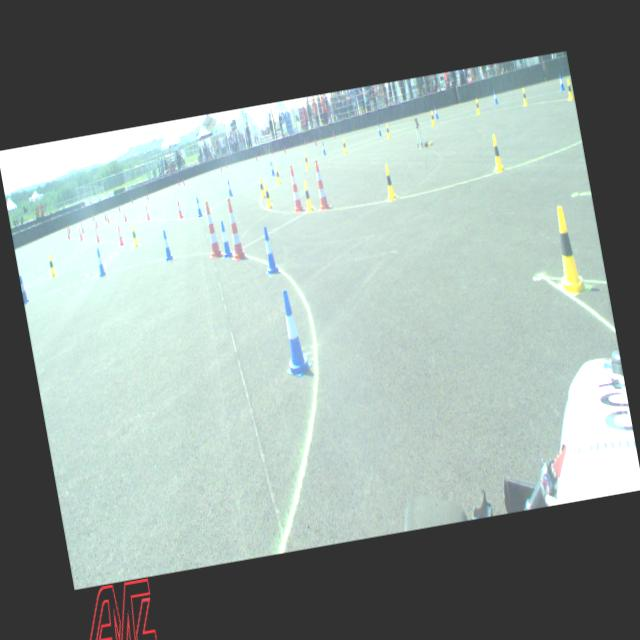blue_cone: (272, 286, 314, 380), (260, 224, 278, 274), (218, 219, 233, 258), (160, 228, 173, 261), (18, 274, 30, 304), (95, 246, 106, 276), (194, 195, 203, 218), (557, 72, 566, 91), (268, 160, 276, 176), (226, 178, 233, 196), (492, 88, 498, 105), (320, 140, 326, 156), (376, 122, 382, 137), (432, 105, 438, 119)
large_orange_cone: (222, 196, 247, 262), (199, 198, 224, 260), (310, 158, 332, 212), (284, 163, 306, 213)
orange_cone: (115, 223, 124, 246), (175, 198, 183, 218), (93, 226, 100, 242), (144, 204, 150, 220), (77, 226, 83, 240), (122, 208, 128, 222), (65, 226, 71, 240), (93, 215, 98, 227), (80, 220, 84, 233), (106, 210, 110, 222)
yellow_cone: (546, 204, 590, 298), (488, 132, 504, 172), (382, 162, 396, 200), (301, 180, 313, 212), (262, 182, 273, 208), (46, 252, 56, 276), (130, 223, 140, 247), (564, 78, 574, 101), (257, 175, 266, 199), (274, 165, 282, 184), (520, 86, 528, 105), (302, 151, 310, 169), (340, 136, 348, 154), (428, 109, 436, 126), (474, 96, 481, 115), (384, 122, 391, 140)
